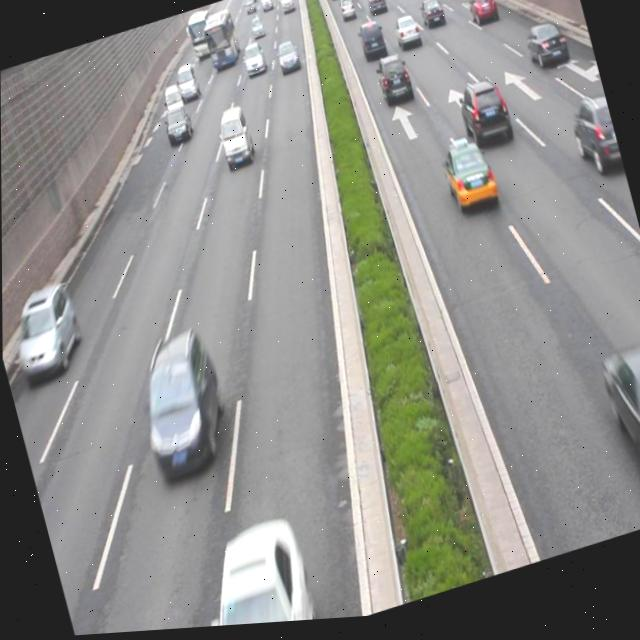car: (124, 331, 236, 486), (192, 521, 317, 630), (3, 279, 88, 386), (594, 344, 640, 509), (563, 94, 624, 191), (435, 138, 498, 225), (452, 81, 514, 161), (521, 26, 568, 81), (371, 56, 412, 114), (161, 106, 195, 149)
truck: (212, 107, 257, 173), (161, 83, 187, 126)
